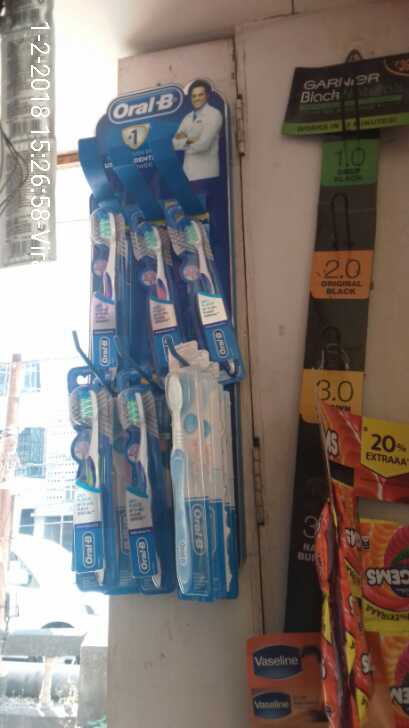oralb: (161, 372, 199, 603), (119, 387, 156, 598), (135, 218, 179, 352), (74, 389, 102, 574), (181, 217, 213, 362), (95, 205, 123, 365)
